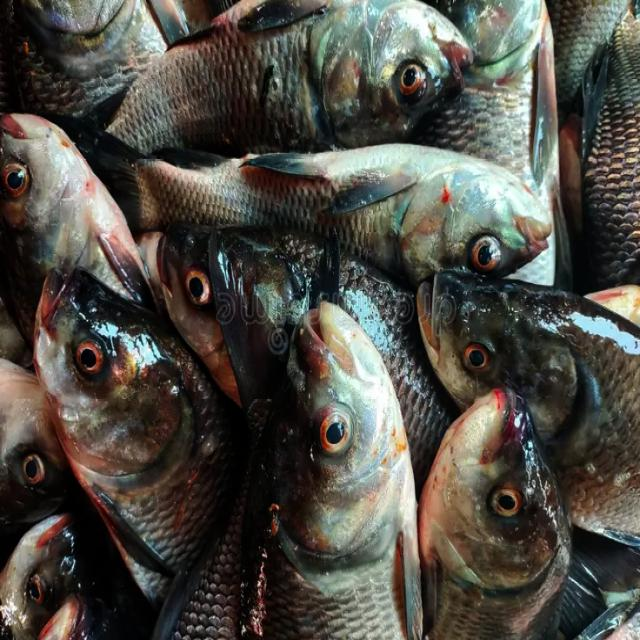Catla: (31, 264, 253, 609), (236, 300, 421, 640)
